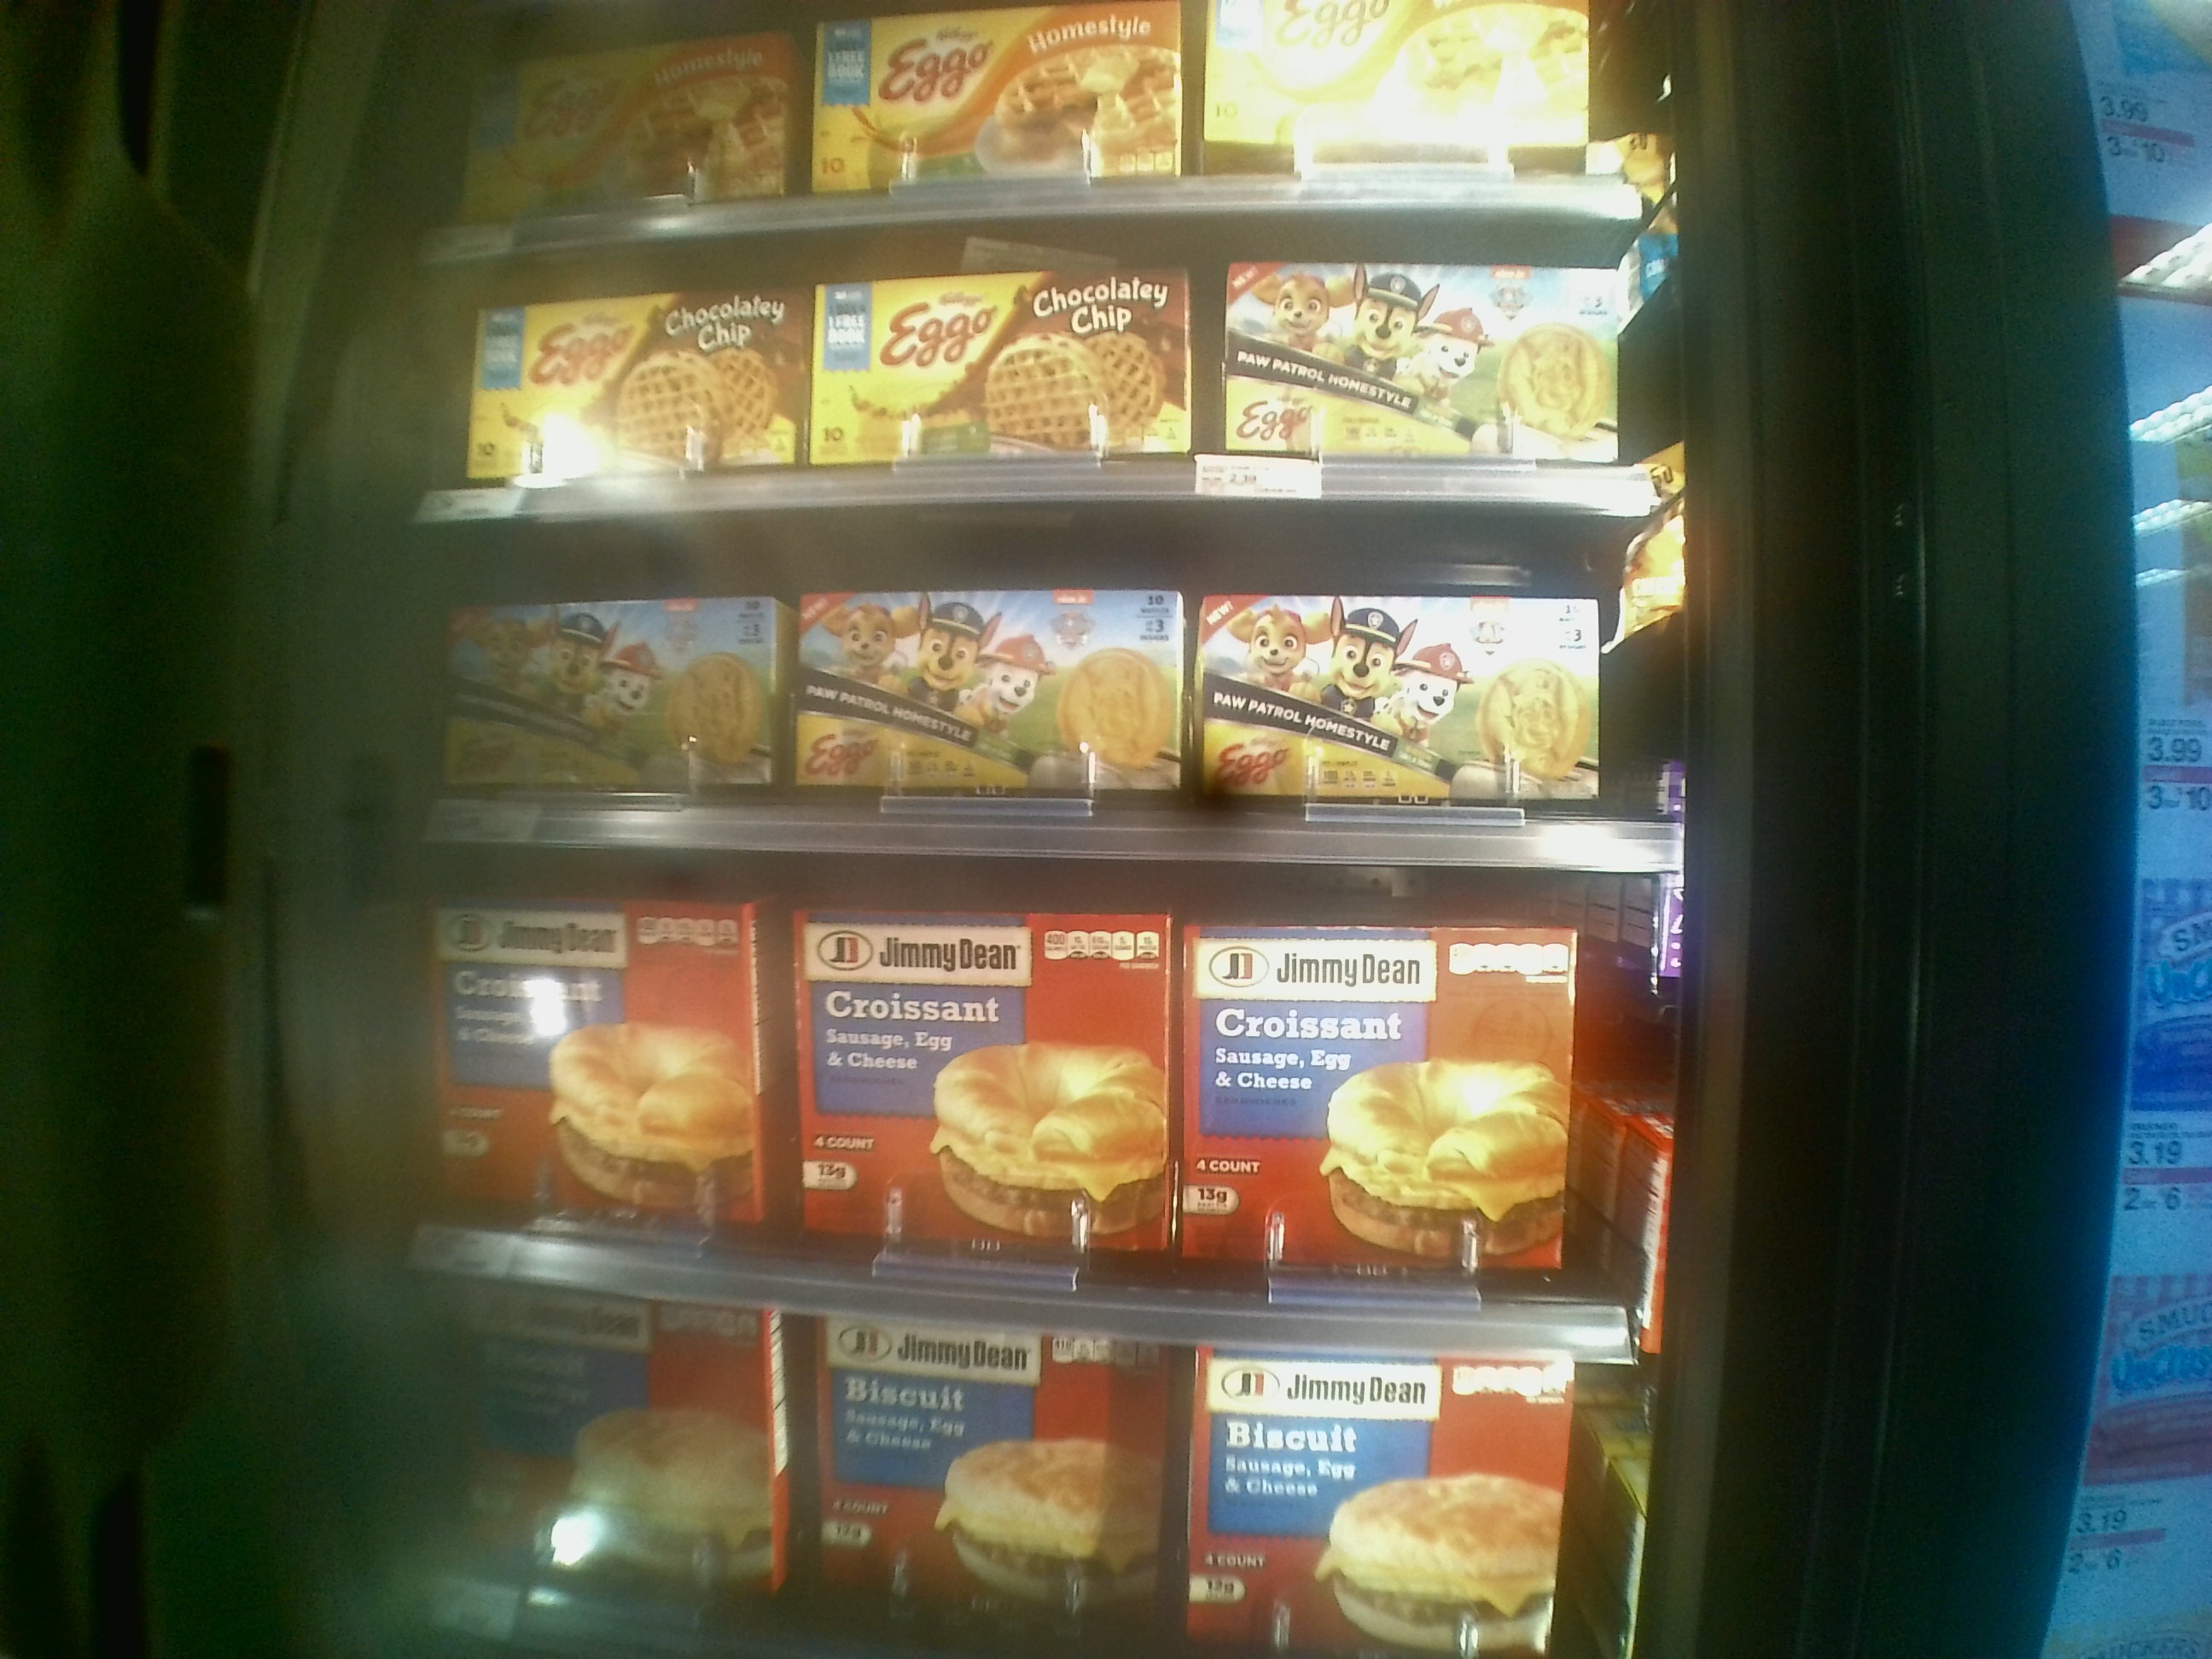frozen-food-shelf: (428, 838, 1676, 1377), (434, 493, 1674, 871)
